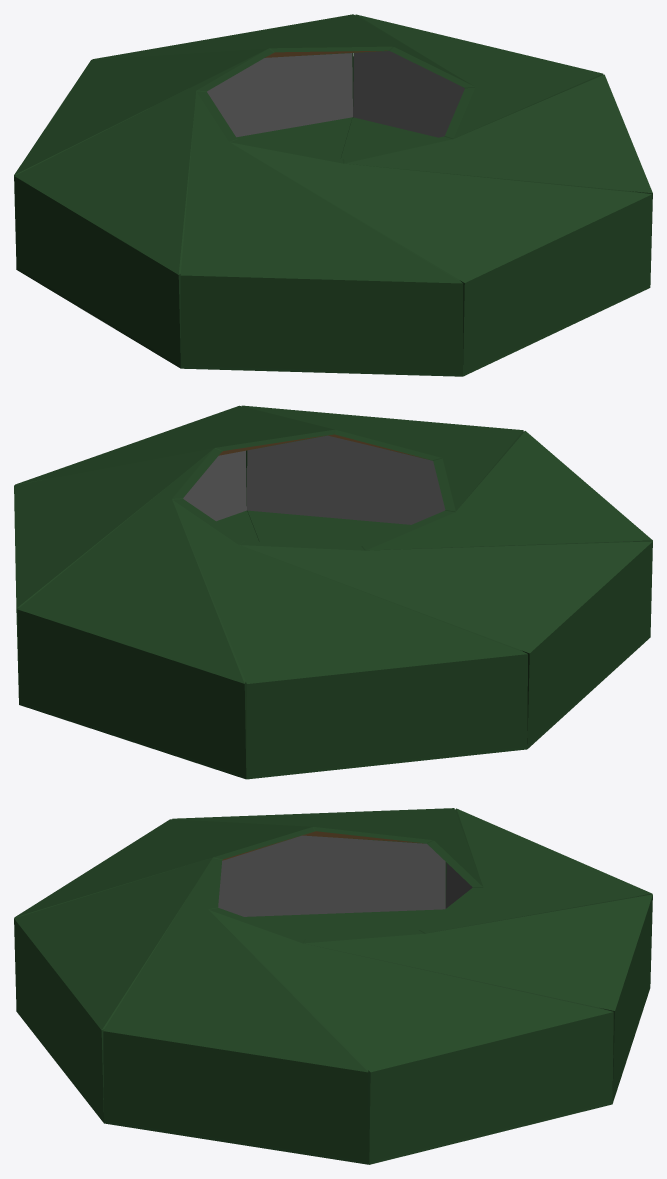
File: Fight Arena.fbx
3 views of the same model, one above another, from view 1: azimuth 30°, elevation 25°; view 2: azimuth 150°, elevation 25°; view 3: azimuth 270°, elevation 25° (orthographic). The views are drawn at different scales.
Parts seen in each view (by area): view 1: Spawn Plate.001; view 2: Spawn Plate.001; view 3: Spawn Plate.001.
Boxes of the visible parts, x1,y1,x2,y2 form: Spawn Plate.001: [14, 14, 652, 376]; Spawn Plate.001: [14, 405, 652, 779]; Spawn Plate.001: [14, 808, 652, 1164].
Bounding box in the file's own units: 16640 × 4264 × 16997.
